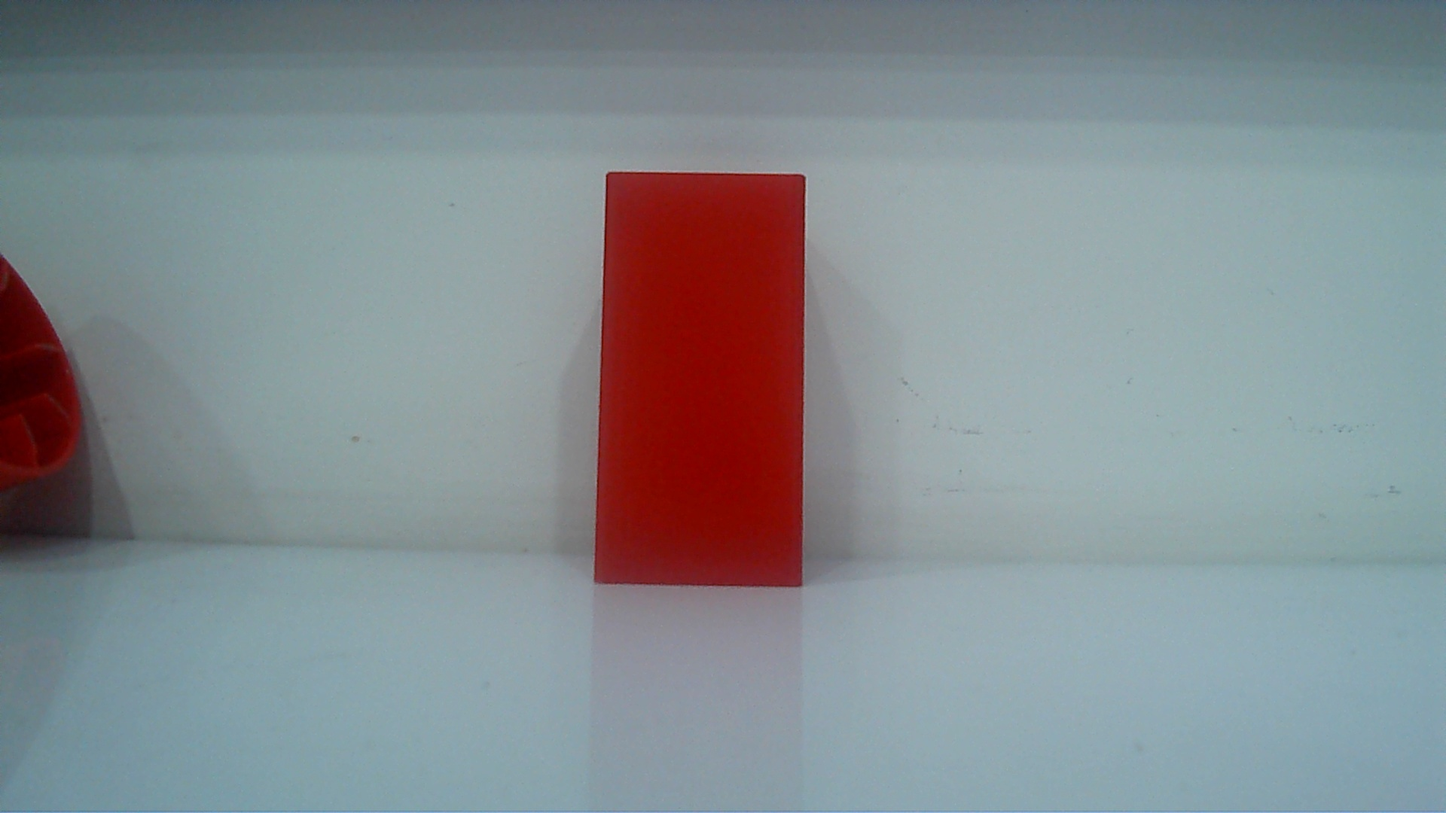red: (584, 155, 816, 611)
